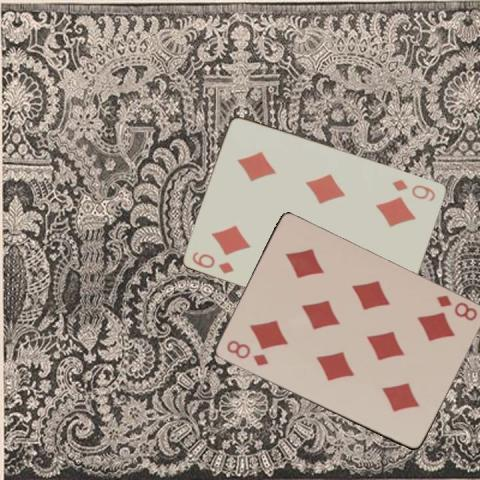6d: (390, 176, 438, 203), (189, 248, 236, 274)
8d: (433, 292, 479, 323), (223, 338, 270, 368)
